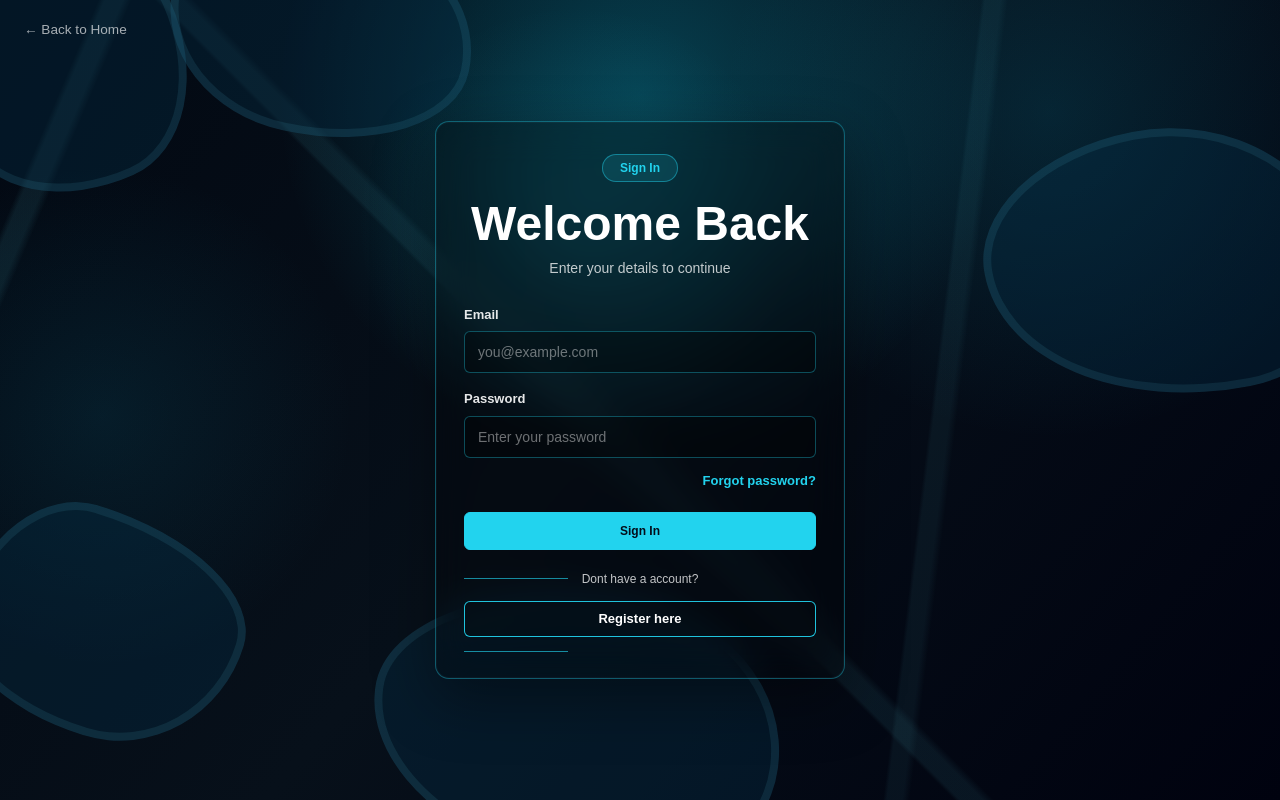
Scenario: LoginPage › shows a friendly message when credentials are rejected
This screenshot has width=1280, height=800.
Type "ada@example.com" into the field with placeholder "you@example.com". click: (640, 352)
box: x1=464 y1=331 x2=816 y2=373
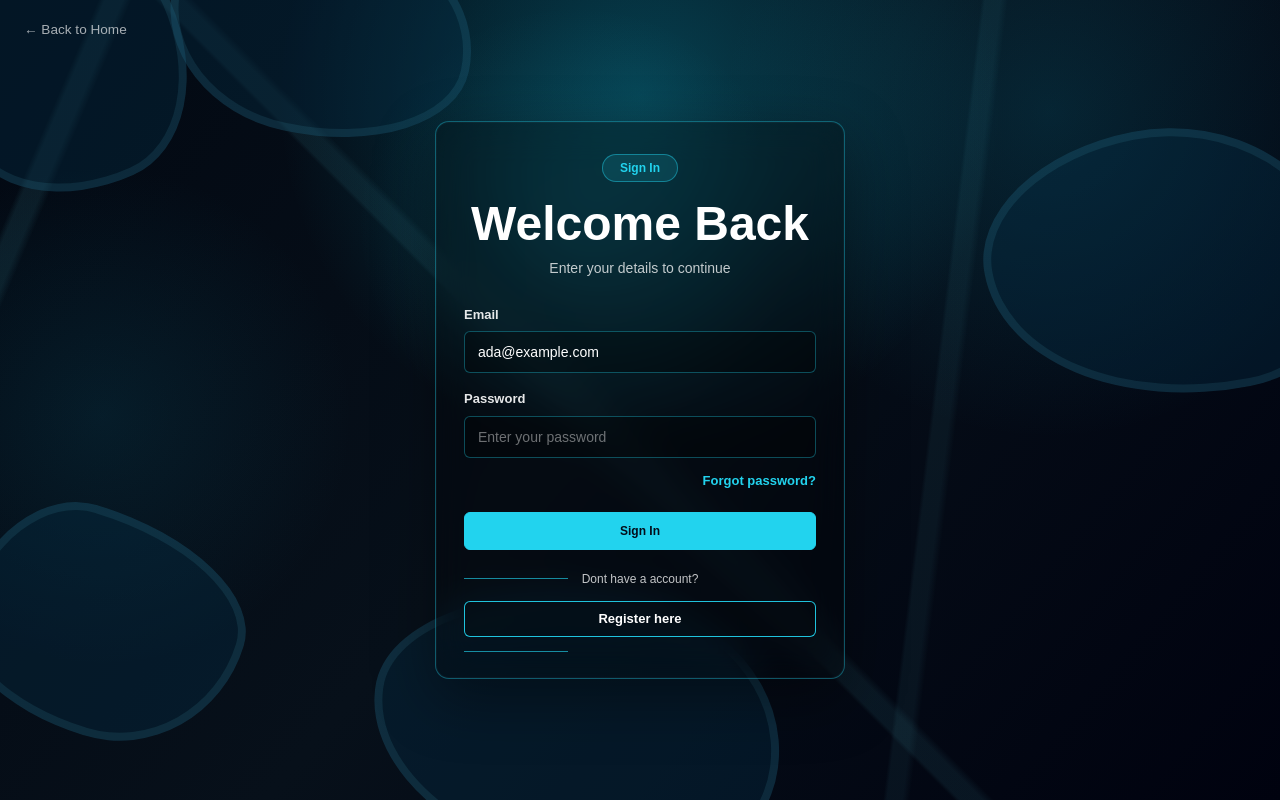
Type "wrong-password" into the password field with placeholder "Enter your password". click: (640, 437)
box: x1=464 y1=416 x2=816 y2=458
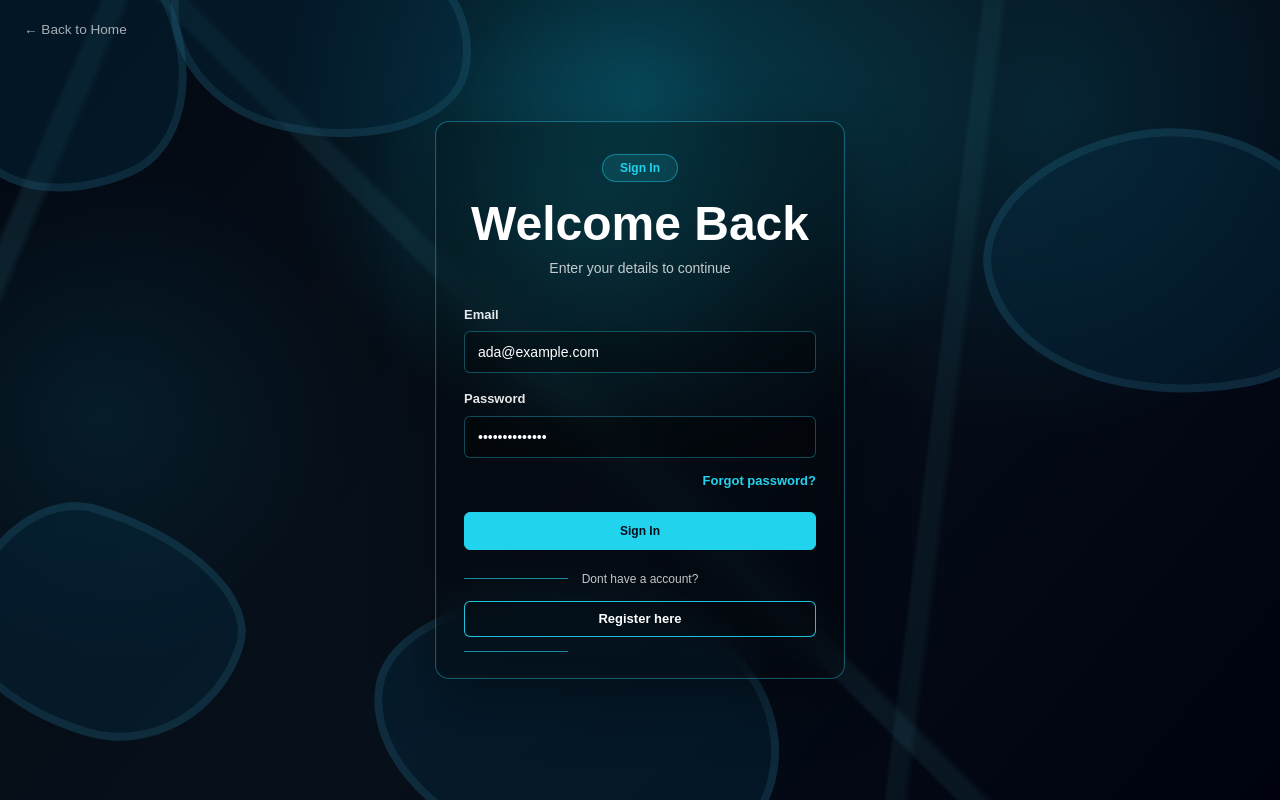
Submit the form "Email Password Forgot password? Sign In", box x1=464 y1=305 x2=816 y2=550
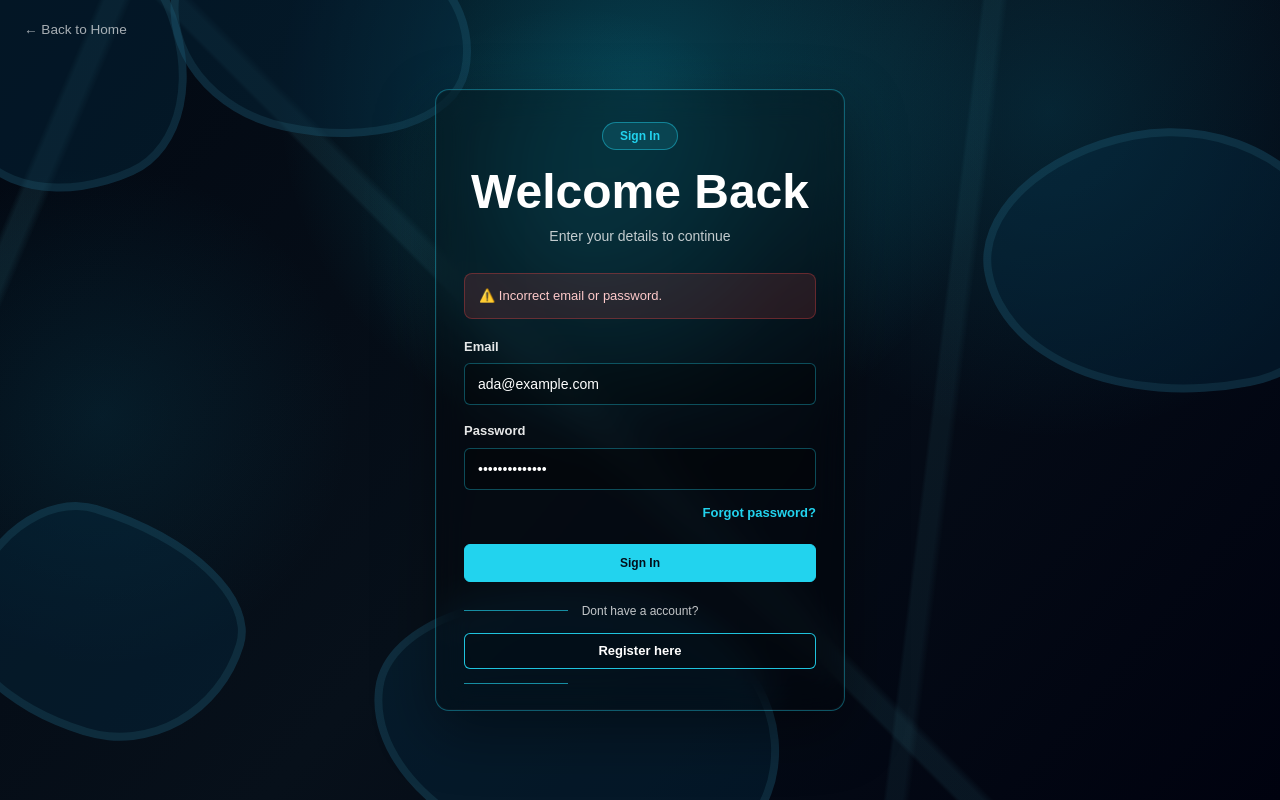
Now the text "⚠️ Incorrect email or password." is shown, box x1=464 y1=273 x2=816 y2=319
